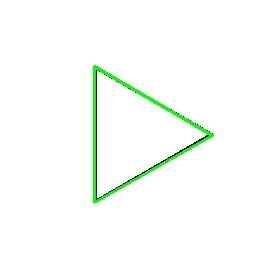line_segment: (93, 66, 213, 203)
